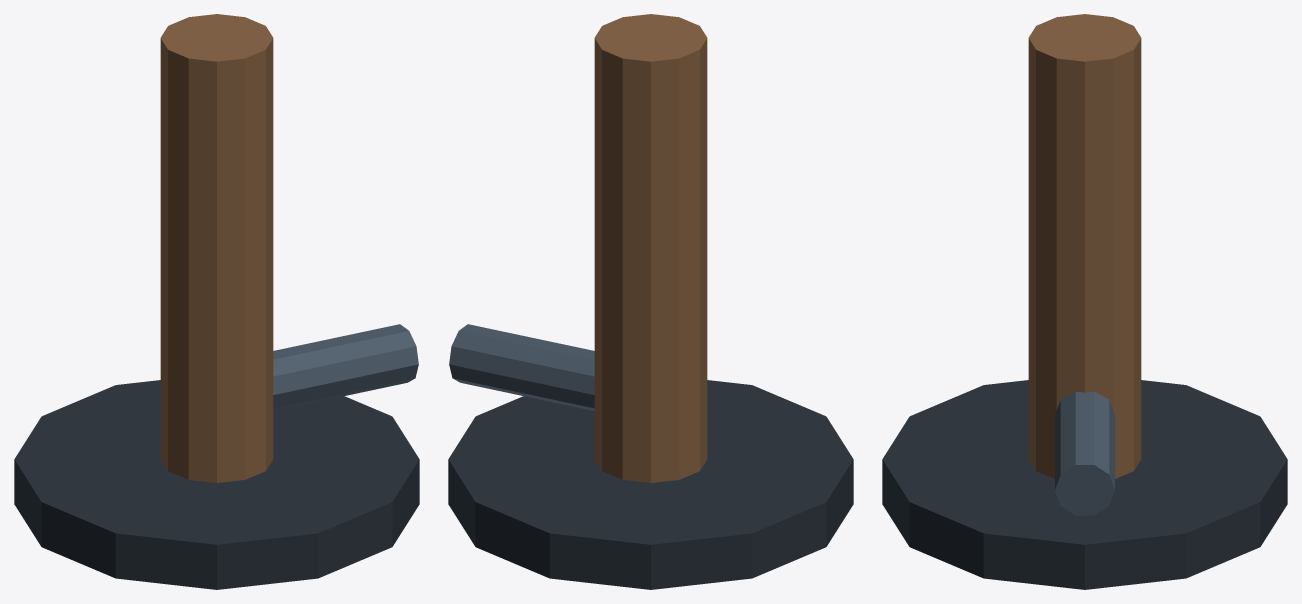
Rendered from L-16_burner.glb.
3 renders of one model, left to right at view 1: azimuth 30°, elevation 25°; view 2: azimuth 150°, elevation 25°; view 3: azimuth 270°, elevation 25°, orthographic.
Parts seen in each view (by area): view 1: L-16_burner; view 2: L-16_burner; view 3: L-16_burner.
Part boxes in pixels (<box>): L-16_burner: <box>14,14,419,589</box>; L-16_burner: <box>448,14,853,589</box>; L-16_burner: <box>882,14,1287,589</box>.
Bounding box in the file's own units: 0.1263 × 0.155 × 0.122.
